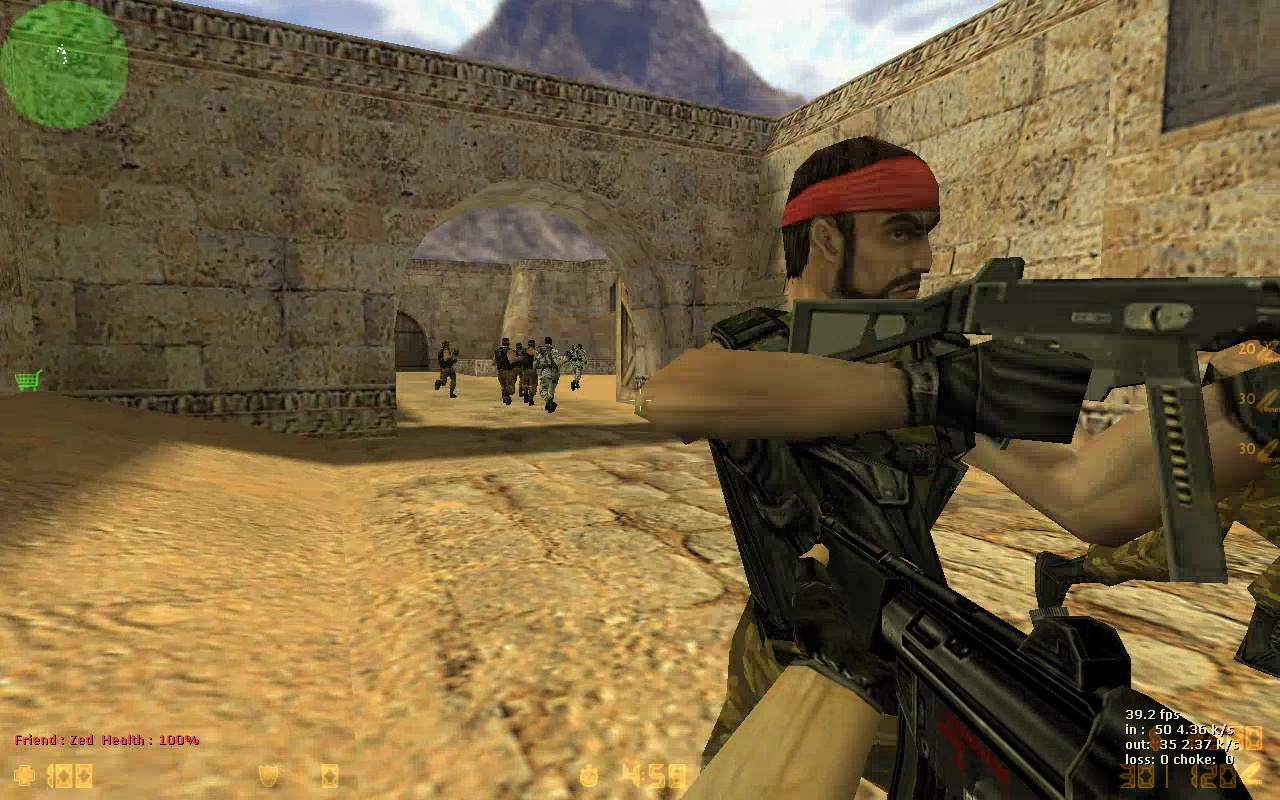terr1: (628, 133, 1184, 797), (494, 341, 518, 401), (434, 342, 461, 394), (520, 341, 536, 401)
terr2: (537, 338, 569, 412), (567, 340, 590, 389)
